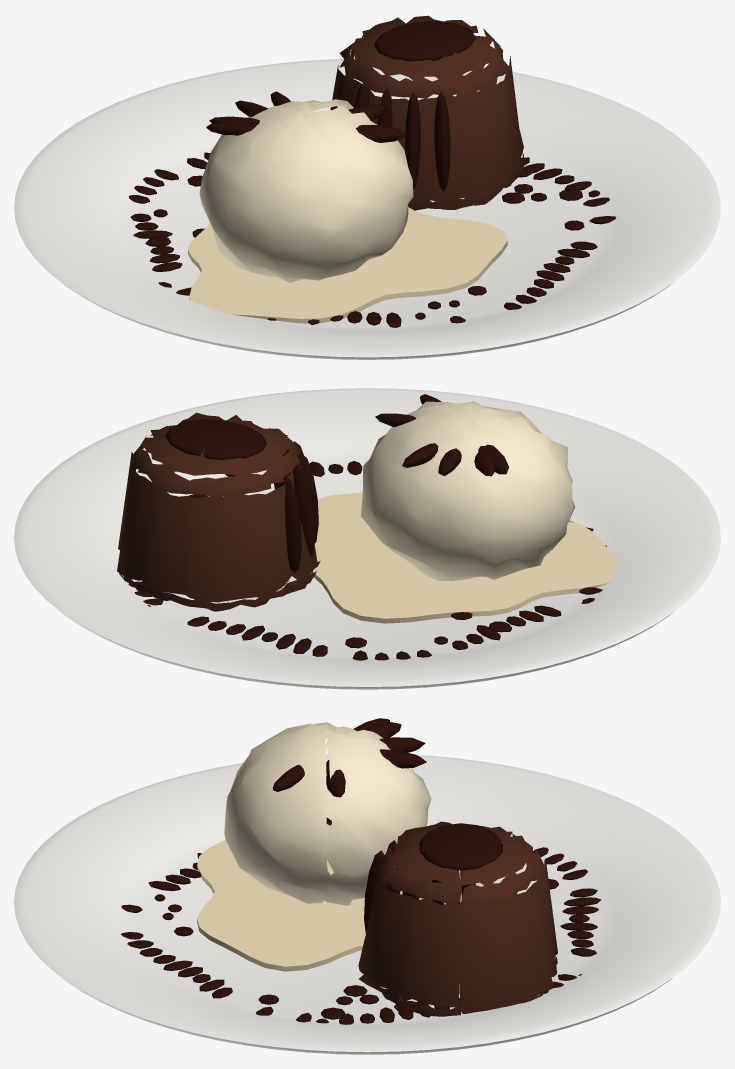
Rendered from petit_gateau.glb.
3 views of the same model, one above another, from view 1: azimuth 30°, elevation 25°; view 2: azimuth 150°, elevation 25°; view 3: azimuth 270°, elevation 25° (orthographic).
Visible parts, largest first — view 1: petit_gateau; view 2: petit_gateau; view 3: petit_gateau.
Part boxes in pixels (x1,y1,x2,y2): petit_gateau: (14, 15, 720, 359); petit_gateau: (14, 388, 720, 689); petit_gateau: (14, 718, 720, 1054).
Bounding box in the file's own units: 0.264 × 0.0758 × 0.264.
